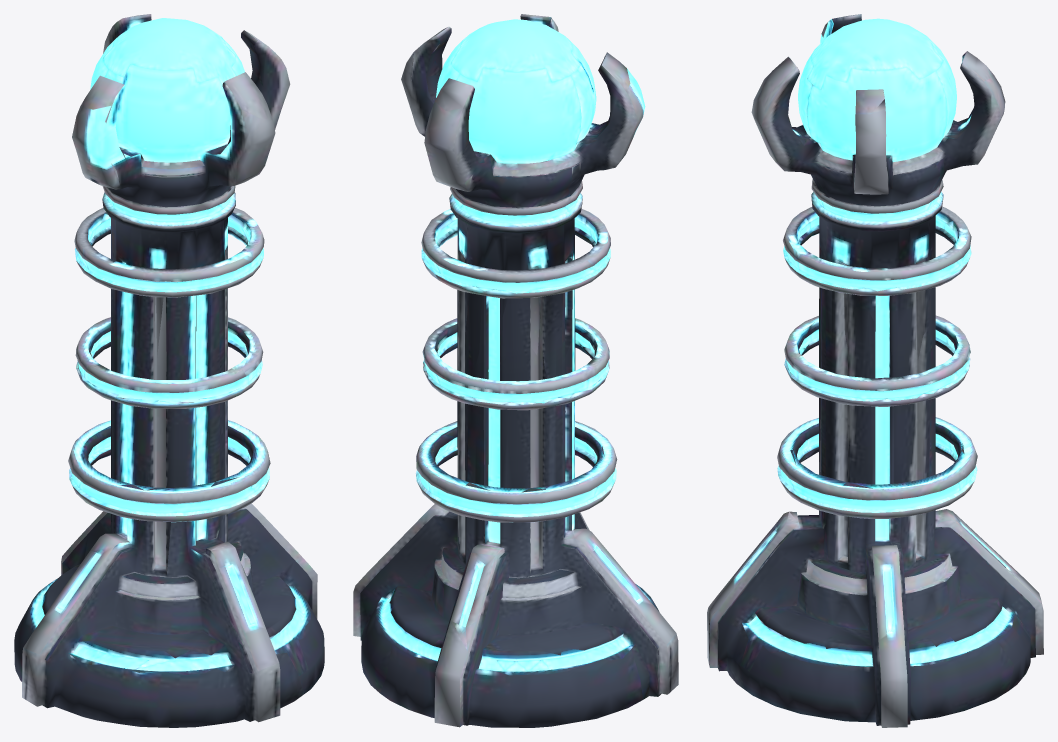
The model's file is warrior-2-tier-3.glb.
The picture shows the model from 3 angles, left to right: view 1: azimuth 30°, elevation 25°; view 2: azimuth 150°, elevation 25°; view 3: azimuth 270°, elevation 25°; orthographic projection.
Visible parts, largest first — view 1: fixed-platform, moving-assembly; view 2: fixed-platform, moving-assembly; view 3: fixed-platform, moving-assembly.
Boxes of the visible parts, x1,y1,x2,y2 form: fixed-platform: (14,258,324,727); moving-assembly: (72,14,290,421); fixed-platform: (353,290,678,727); moving-assembly: (401,14,645,419); fixed-platform: (707,261,1043,727); moving-assembly: (751,14,1005,437).
Size of the model in its own units: 1.03 by 2.1 by 1.01.
1 material, 1 textured.
